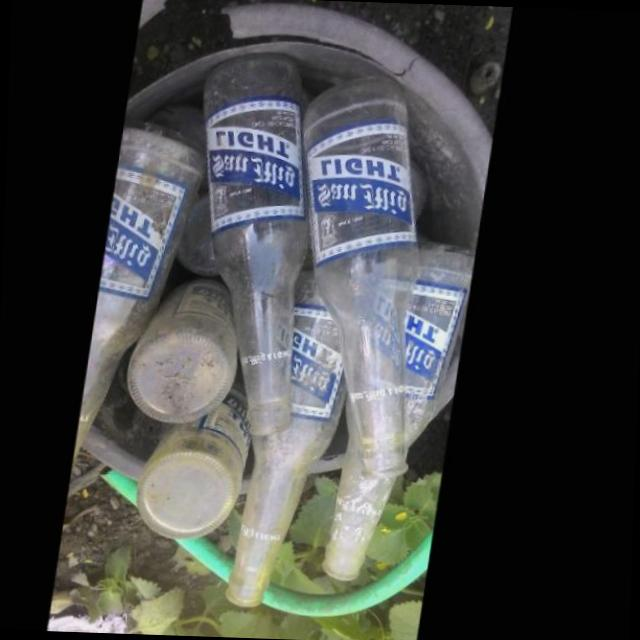chai_thuy_tinh: (305, 72, 425, 477), (205, 47, 315, 432), (81, 119, 204, 460), (237, 265, 356, 605), (145, 369, 258, 536), (133, 269, 246, 419), (413, 236, 481, 445), (334, 424, 404, 578)
